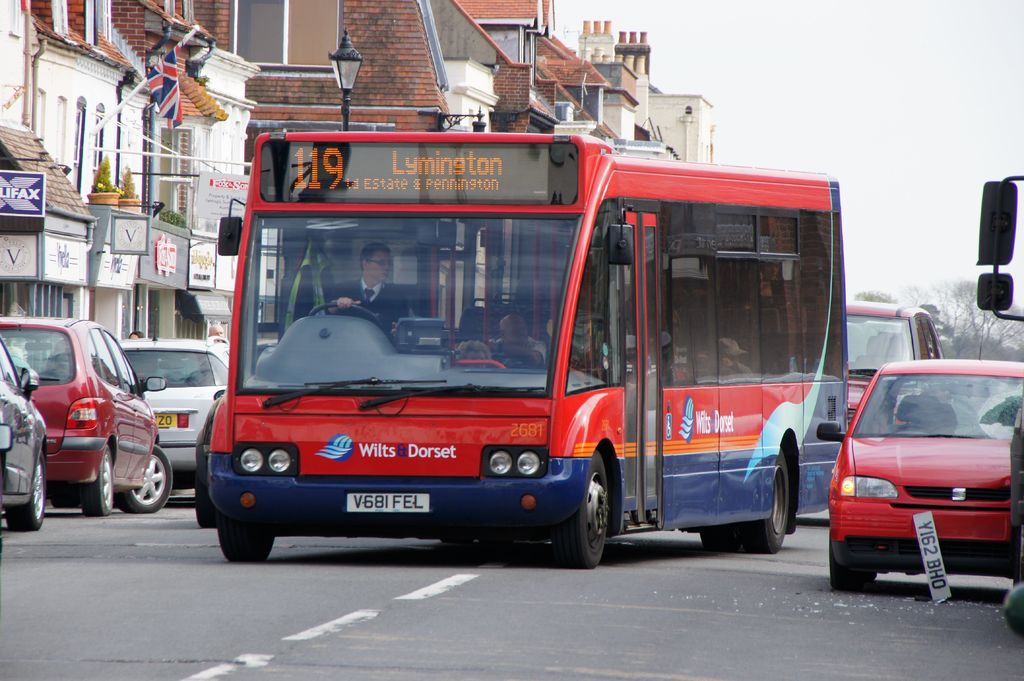Bus: (190, 118, 849, 567)
